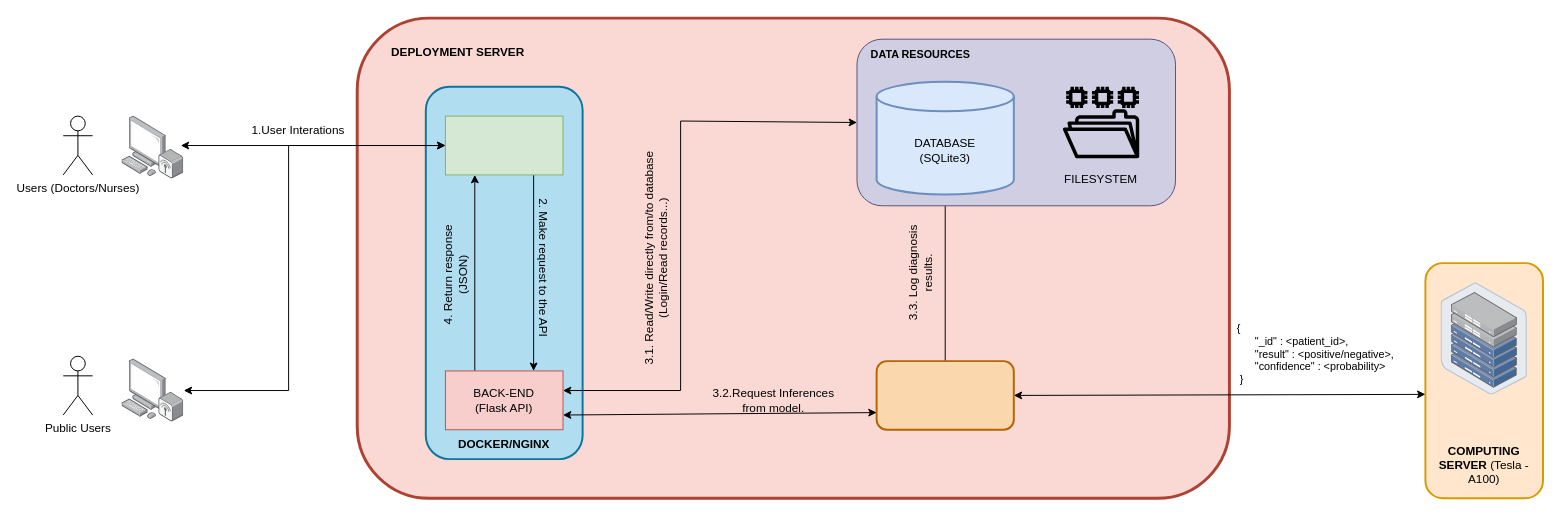
Image size: 1561x516. Some labels were removed from this diagram. The shapes that lost their labels are listed below. From the top down, each one's box as (x1, y1, x2, y2) in pixels, then its label:
(444, 115, 563, 175): FRONT-END (React Application)
(875, 360, 1014, 430): COVID-NET API
